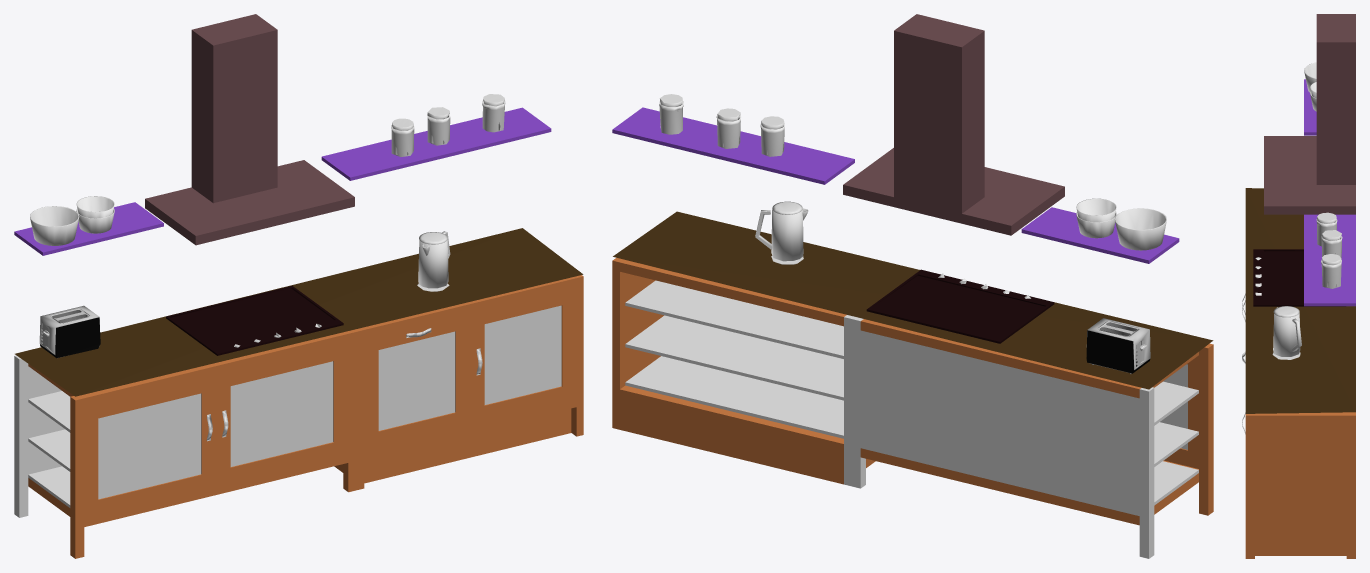
The model's file is kit.dae.
3 views of the same model, side by side, from view 1: azimuth 30°, elevation 25°; view 2: azimuth 150°, elevation 25°; view 3: azimuth 270°, elevation 25° (orthographic). The views are drawn at different scales.
Visible parts, largest first — view 1: Group_054, Group_088, Group_066, Group_064, Group_089, Group_072, Body_001, Group_065, Group_067, Group_080, Group_078, Group_081 (+17 smaller); view 2: Group_055, Group_054, Group_077, Group_088, Group_072, Body_001, Group_089, Group_083, Group_061, Group_063, Group_058, Group_075 (+13 smaller); view 3: Group_054, Group_082, Group_088, Group_089, Group_083, Body_001, Group_072, Group_074, Group_070, Group_122, Group_084, Group_141 (+8 smaller).
Boxes of the visible parts, <box> form: Group_054: <box>15,228,583,396</box>; Group_088: <box>191,14,277,203</box>; Group_066: <box>98,393,201,499</box>; Group_064: <box>230,361,333,466</box>; Group_089: <box>145,160,354,245</box>; Group_072: <box>334,398,576,483</box>; Body_001: <box>166,285,343,355</box>; Group_065: <box>216,342,348,486</box>; Group_067: <box>84,375,216,518</box>; Group_080: <box>378,331,455,430</box>; Group_078: <box>484,305,561,404</box>; Group_081: <box>364,313,470,449</box>; Group_055: <box>860,330,1139,515</box>; Group_054: <box>613,211,1213,389</box>; Group_077: <box>625,280,843,438</box>; Group_088: <box>894,14,984,213</box>; Group_072: <box>620,385,875,484</box>; Body_001: <box>866,269,1054,343</box>; Group_089: <box>843,148,1064,235</box>; Group_083: <box>612,107,854,184</box>; Group_061: <box>860,319,1198,398</box>; Group_063: <box>1154,381,1198,505</box>; Group_058: <box>860,448,1198,525</box>; Group_075: <box>620,259,846,326</box>; Group_054: <box>1245,188,1355,413</box>; Group_082: <box>1255,412,1346,532</box>; Group_088: <box>1316,14,1355,184</box>; Group_089: <box>1264,136,1355,214</box>; Group_083: <box>1304,214,1355,306</box>; Body_001: <box>1253,249,1345,306</box>; Group_072: <box>1255,532,1346,555</box>; Group_074: <box>1346,412,1355,558</box>; Group_070: <box>1245,414,1254,558</box>; Group_122: <box>1273,313,1300,356</box>; Group_084: <box>1304,79,1316,135</box>; Group_141: <box>1321,260,1341,288</box>.
Size of the model in its own units: 2.89 by 0.6197 by 2.39.
